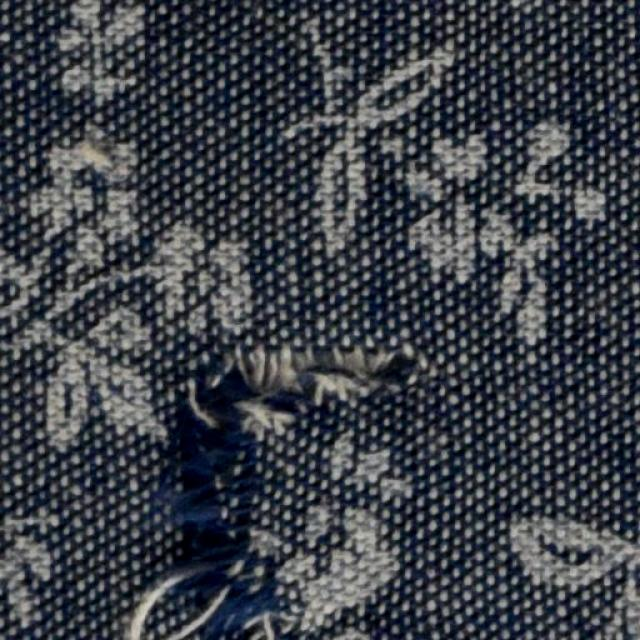Snag: (159, 338, 430, 640)
